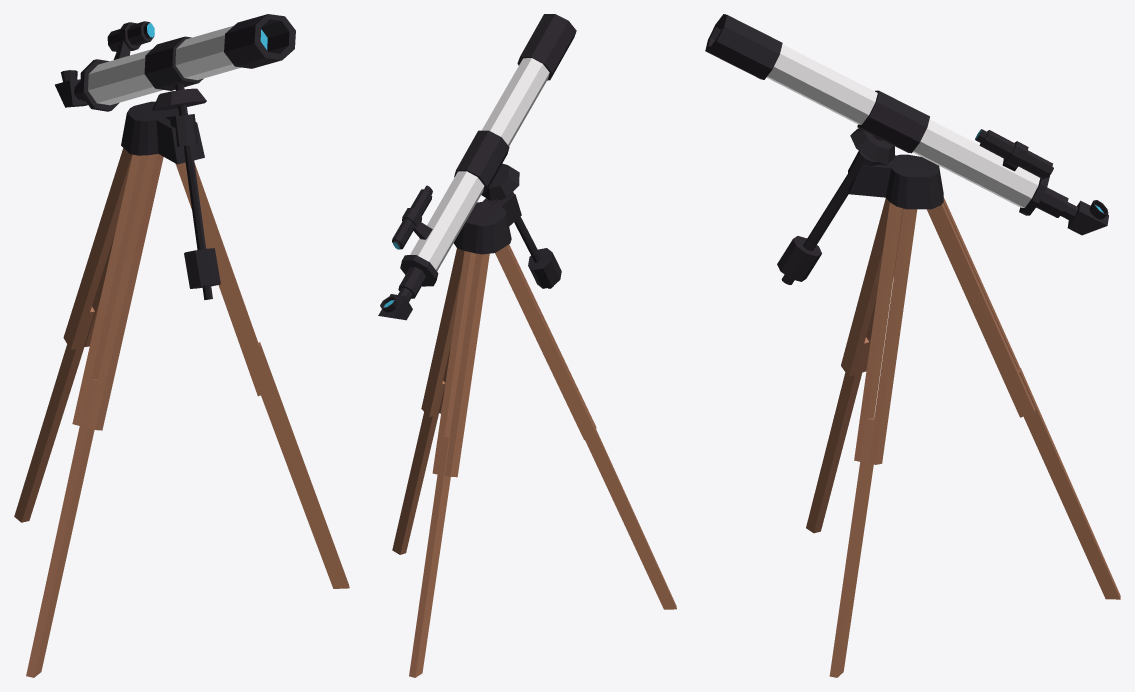
Rendered from telescope.glb.
3 views of the same model, side by side, from view 1: azimuth 30°, elevation 25°; view 2: azimuth 150°, elevation 25°; view 3: azimuth 270°, elevation 25° (orthographic). The views are drawn at different scales.
Parts seen in each view (by area): view 1: Telescope; view 2: Telescope; view 3: Telescope.
Boxes of the visible parts, x1,y1,x2,y2 form: Telescope: (14,14,349,677); Telescope: (378,14,676,677); Telescope: (705,14,1120,677).
Size of the model in its own units: 0.5127 by 0.9454 by 0.5937.
Materials: 1 (1 with a texture image).
